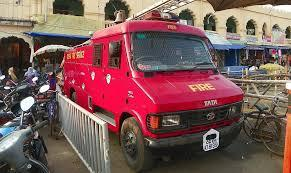Emergency-Vehicles: (69, 22, 241, 154)
